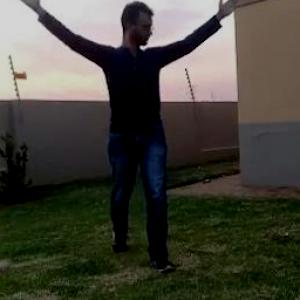takeoff: (1, 0, 251, 274)
